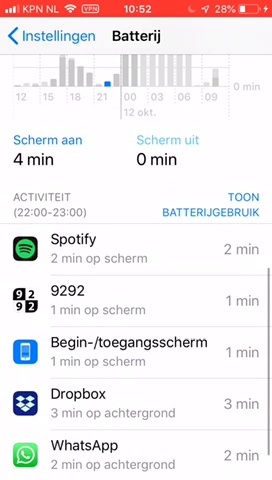activity: (6, 188, 102, 220)
app: (9, 281, 266, 318), (8, 334, 265, 371), (7, 386, 264, 423), (9, 437, 266, 474), (10, 231, 265, 268)
